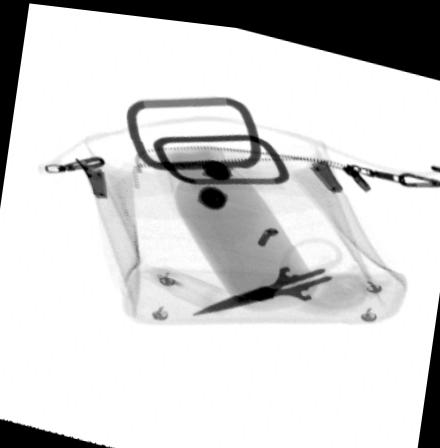Scissors: (190, 228, 370, 311)
